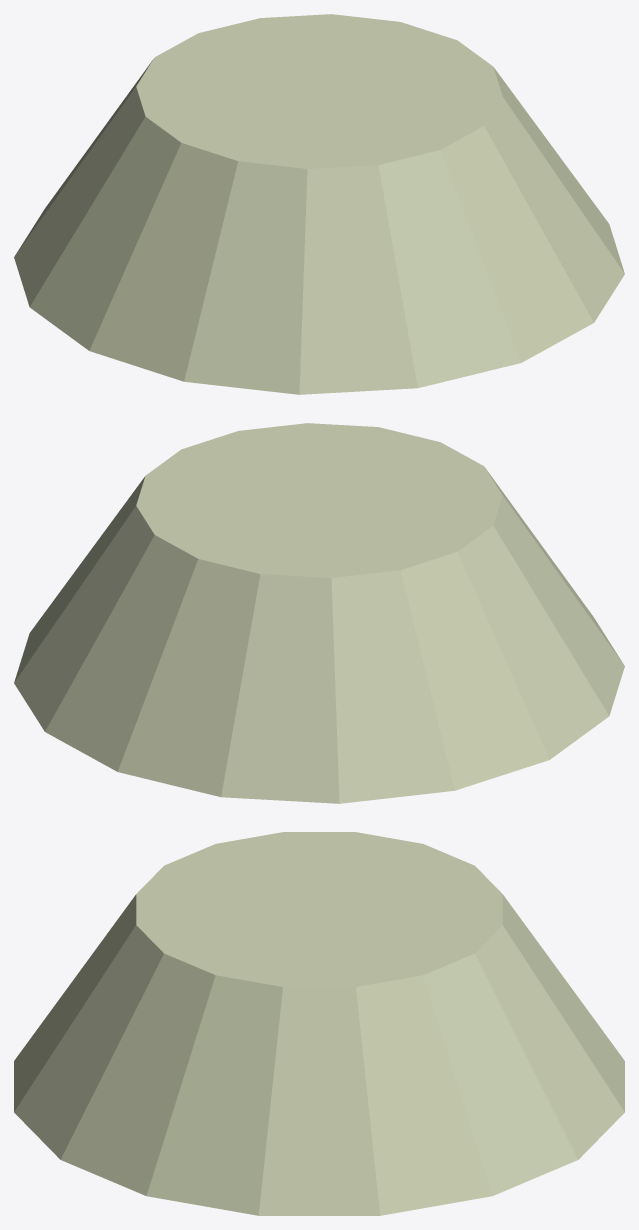
The model's file is aquarius_drogue_parachute_s0_1_collider.obj.
3 renders of one model, top to bottom at view 1: azimuth 30°, elevation 25°; view 2: azimuth 150°, elevation 25°; view 3: azimuth 270°, elevation 25°, orthographic.
Parts seen in each view (by area): view 1: aquarius_drogue_parachute_s0p5_1_collider; view 2: aquarius_drogue_parachute_s0p5_1_collider; view 3: aquarius_drogue_parachute_s0p5_1_collider.
Part boxes in pixels (box(x1,y1,x2,y2)): aquarius_drogue_parachute_s0p5_1_collider: box(14, 14, 624, 394); aquarius_drogue_parachute_s0p5_1_collider: box(14, 423, 624, 803); aquarius_drogue_parachute_s0p5_1_collider: box(14, 832, 624, 1215).
Bounding box in the file's own units: 0.625 × 0.2 × 0.625.
